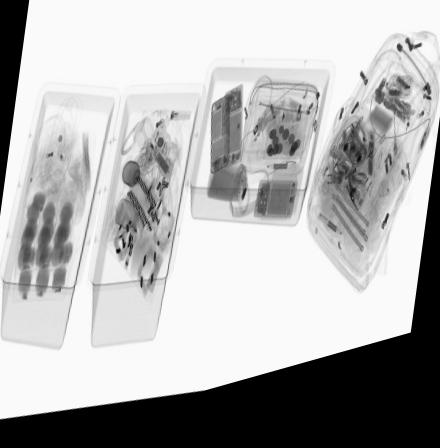Lighter: (168, 119, 192, 131)
